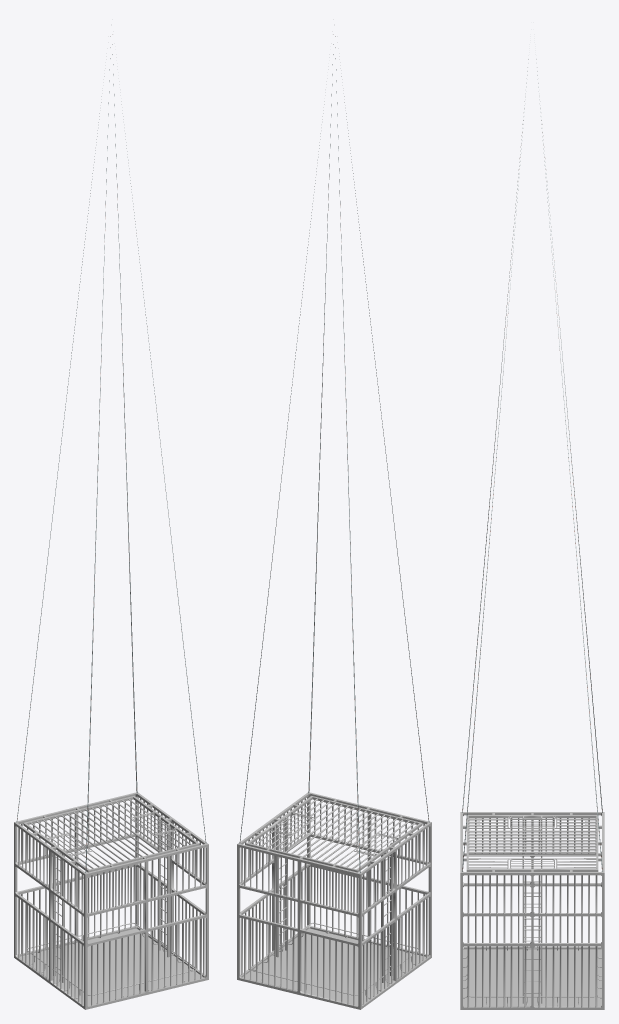
3 views of the same model, side by side, from view 1: azimuth 30°, elevation 25°; view 2: azimuth 150°, elevation 25°; view 3: azimuth 270°, elevation 25° (orthographic).
Parts seen in each view (by area): view 1: Cage_3, Rope_2; view 2: Cage_3, Rope_2; view 3: Cage_3, Rope_2, CageEntrance_02_1.
Part boxes in pixels (x1,y1,x2,y2): Cage_3: [14, 792, 208, 1009]; Rope_2: [16, 34, 206, 872]; Cage_3: [237, 792, 431, 1009]; Rope_2: [239, 34, 429, 872]; Cage_3: [460, 812, 604, 1009]; Rope_2: [462, 59, 602, 871]; CageEntrance_02_1: [510, 817, 554, 828].
Bounding box in the file's own units: 2.04 × 15.03 × 2.04.
